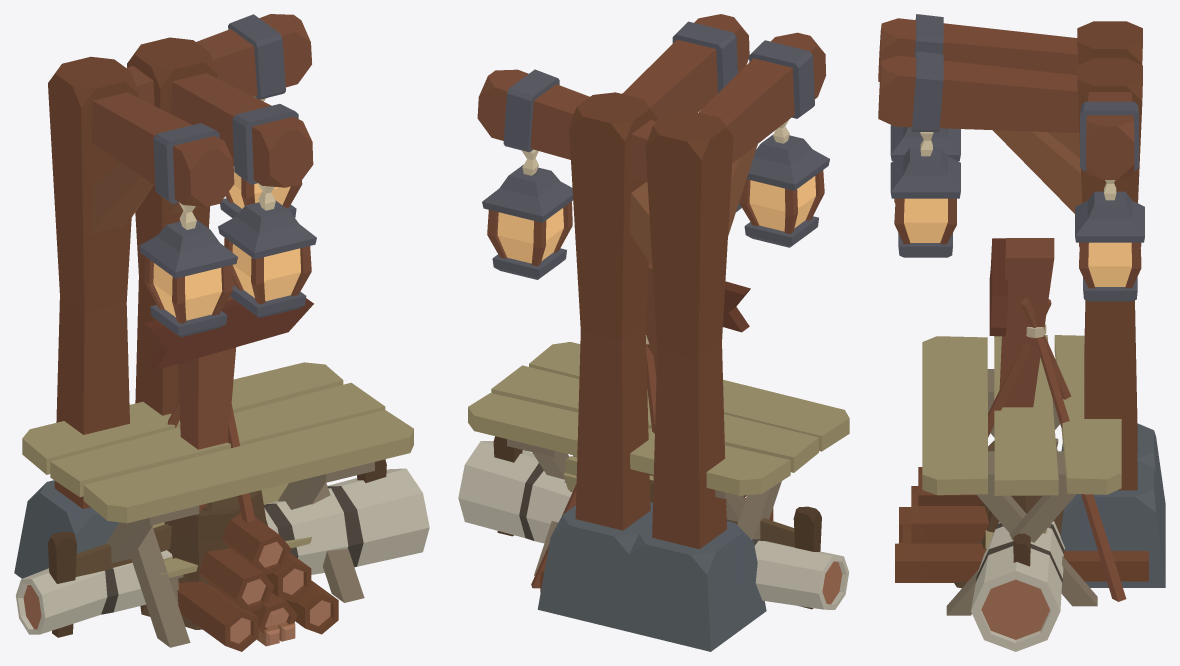
File: camp.glb
3 views of the same model, side by side, from view 1: azimuth 30°, elevation 25°; view 2: azimuth 150°, elevation 25°; view 3: azimuth 270°, elevation 25° (orthographic). The views are drawn at different scales.
Parts seen in each view (by area): view 1: wooden_Streat_Lamp_02_Yellow, Wood_Table, wooden_Streat_Lamp_01_Yellow, Trunk_24, Wood_Pile_01, Wooden_Road_Sign_01, Trunk_21, Wood_Old_1m_Fence_02, Wood_Old_1m_Fence_01, Wood_Bench_01, Wood_Cooking_Tripod_01, Wood_Pile_03; view 2: wooden_Streat_Lamp_02_Yellow, wooden_Streat_Lamp_01_Yellow, Wood_Table, Trunk_24, Wooden_Road_Sign_01, Wood_Old_1m_Fence_02, Wood_Old_1m_Fence_01, Wood_Cooking_Tripod_01; view 3: wooden_Streat_Lamp_01_Yellow, Wood_Table, wooden_Streat_Lamp_02_Yellow, Wood_Pile_01, Trunk_24, Wooden_Road_Sign_01, Wood_Cooking_Tripod_01, Trunk_20.
Boxes of the visible parts, bbox=[...] form: wooden_Streat_Lamp_02_Yellow: bbox=[14, 14, 311, 578]; Wood_Table: bbox=[22, 362, 413, 647]; wooden_Streat_Lamp_01_Yellow: bbox=[127, 37, 316, 415]; Trunk_24: bbox=[15, 468, 429, 634]; Wood_Pile_01: bbox=[177, 513, 338, 651]; Wooden_Road_Sign_01: bbox=[144, 279, 313, 510]; Trunk_21: bbox=[164, 508, 256, 629]; Wood_Old_1m_Fence_02: bbox=[55, 459, 386, 581]; Wood_Old_1m_Fence_01: bbox=[48, 531, 170, 637]; Wood_Bench_01: bbox=[152, 483, 311, 604]; Wood_Cooking_Tripod_01: bbox=[167, 400, 255, 522]; Wood_Pile_03: bbox=[257, 611, 295, 646]; wooden_Streat_Lamp_02_Yellow: bbox=[477, 32, 829, 651]; wooden_Streat_Lamp_01_Yellow: bbox=[537, 14, 749, 628]; Wood_Table: bbox=[468, 342, 849, 575]; Trunk_24: bbox=[458, 441, 849, 609]; Wooden_Road_Sign_01: bbox=[645, 262, 750, 377]; Wood_Old_1m_Fence_02: bbox=[493, 436, 818, 551]; Wood_Old_1m_Fence_01: bbox=[793, 506, 821, 609]; Wood_Cooking_Tripod_01: bbox=[531, 335, 656, 588]; wooden_Streat_Lamp_01_Yellow: bbox=[878, 51, 1165, 587]; Wood_Table: bbox=[922, 335, 1121, 615]; wooden_Streat_Lamp_02_Yellow: bbox=[878, 14, 1165, 539]; Wood_Pile_01: bbox=[895, 467, 1148, 582]; Trunk_24: bbox=[971, 448, 1064, 651]; Wooden_Road_Sign_01: bbox=[989, 238, 1054, 407]; Wood_Cooking_Tripod_01: bbox=[988, 298, 1126, 601]; Trunk_20: bbox=[982, 495, 1063, 549].
Bounding box in the file's own units: 1.8 × 2.4 × 1.24.
1 material, 1 textured.
